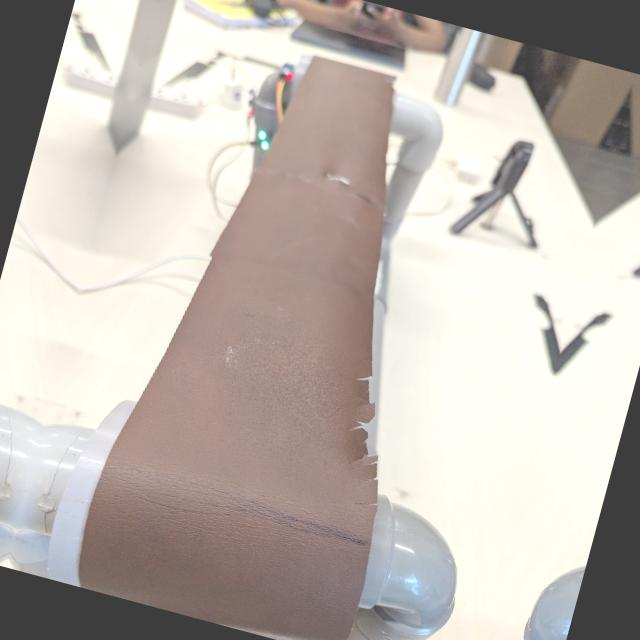edge_damage: (318, 361, 427, 514)
joint_damage: (316, 162, 366, 195)
